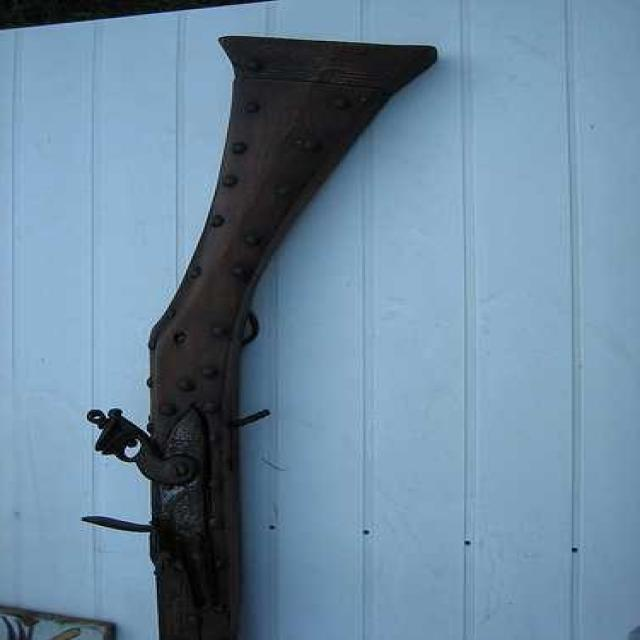heavyweapon: (53, 17, 457, 640)
